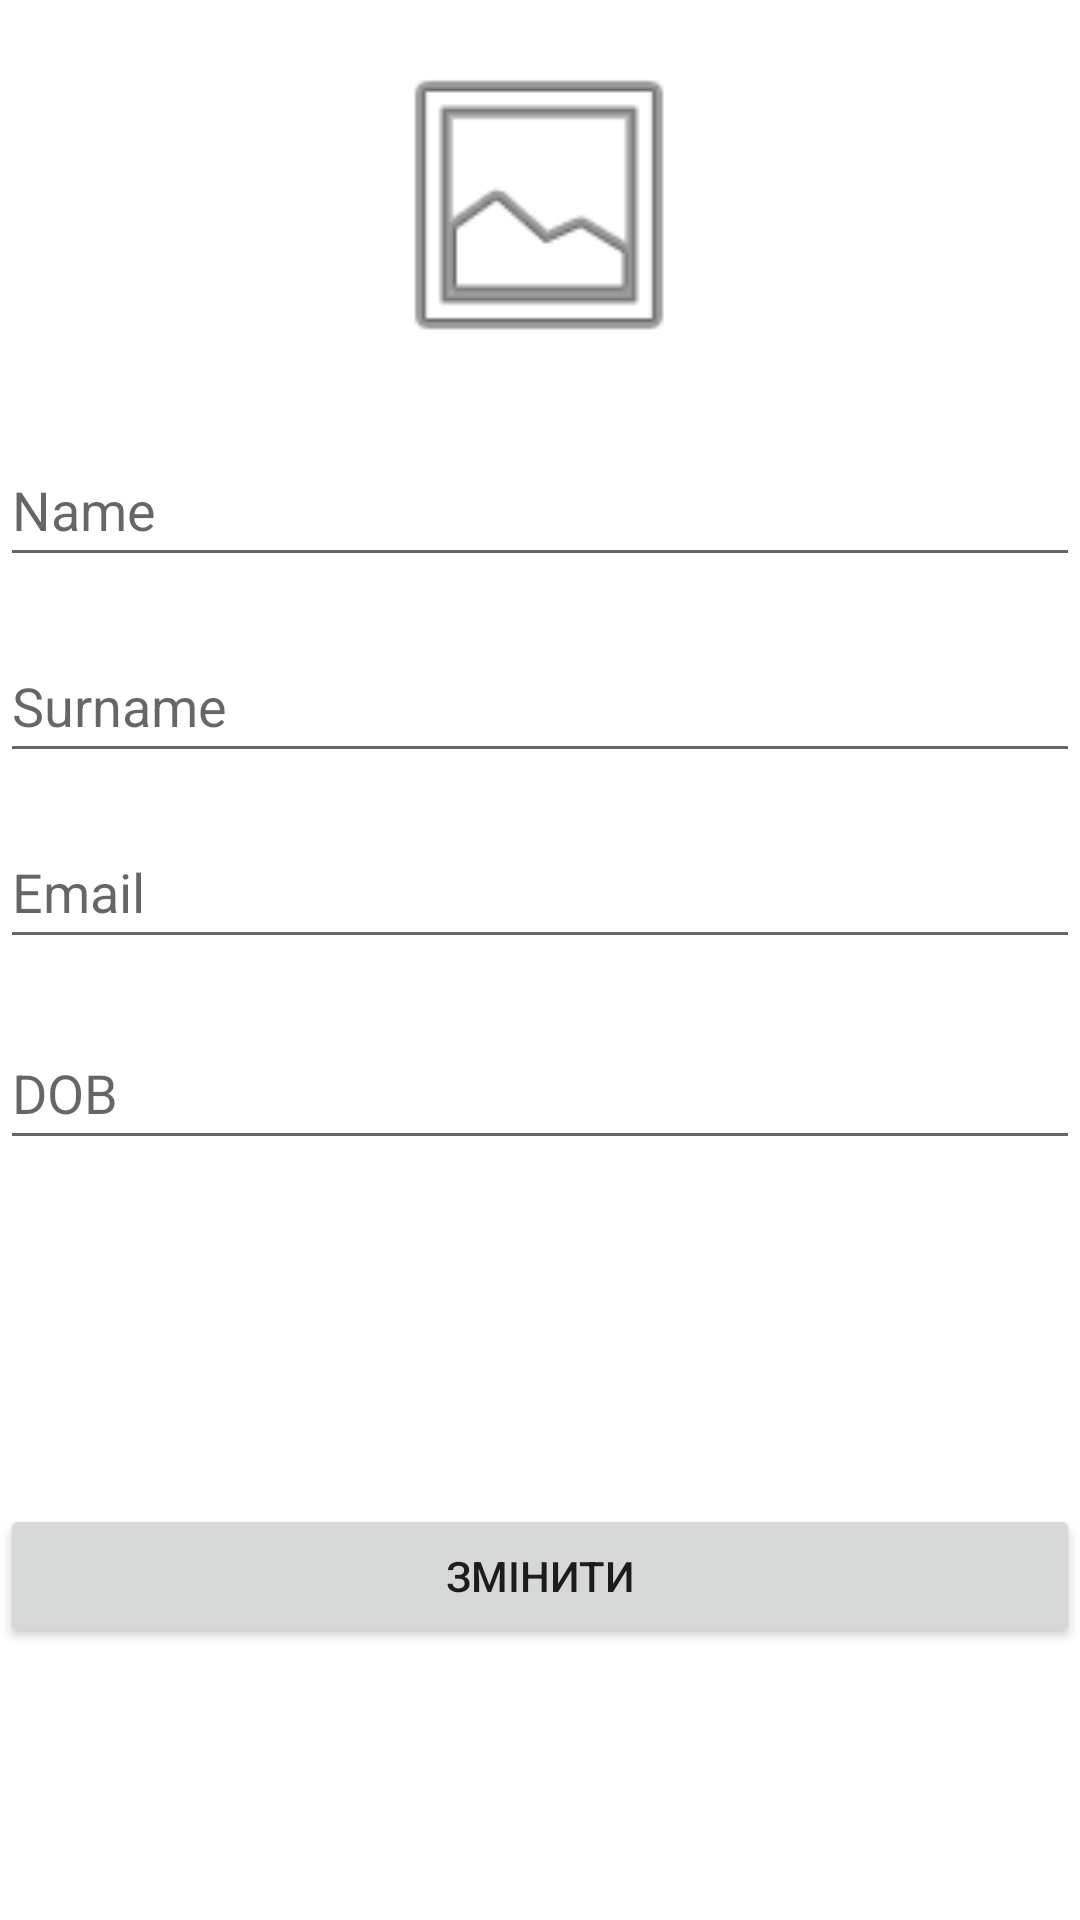

Named icons in this screenshot (1080x1920) and their centers, (x=x, y=y):
gallery: (x=539, y=205)
